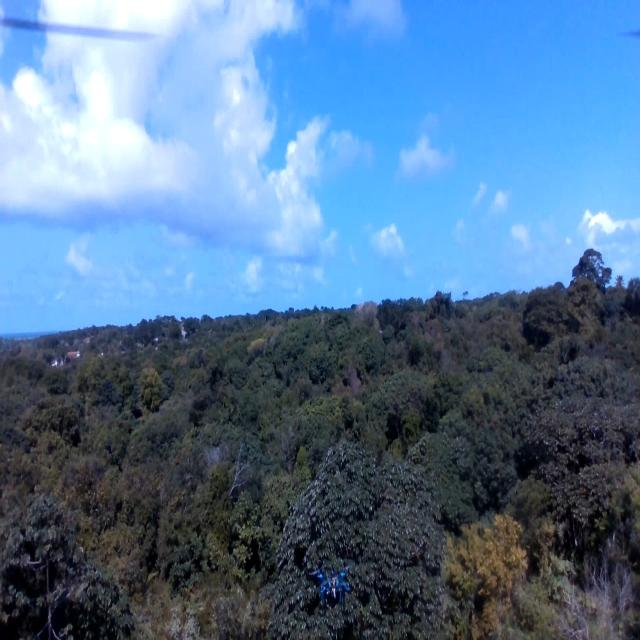-uav-: (313, 564, 350, 610)
